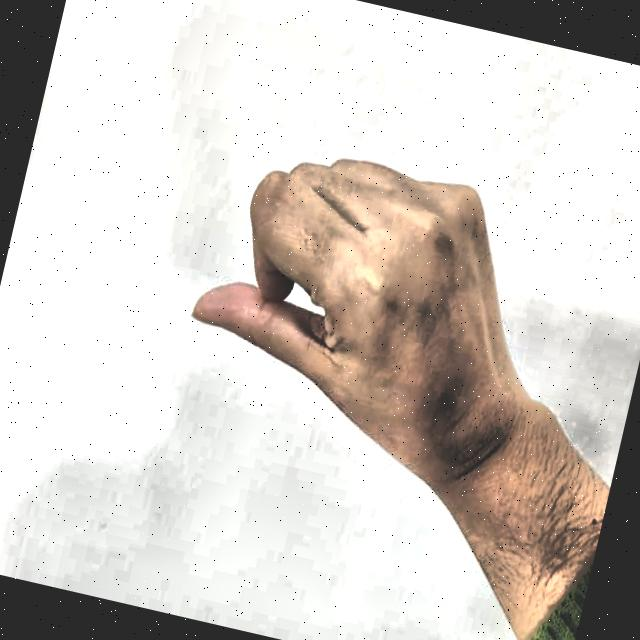Ay: (138, 80, 536, 530)
